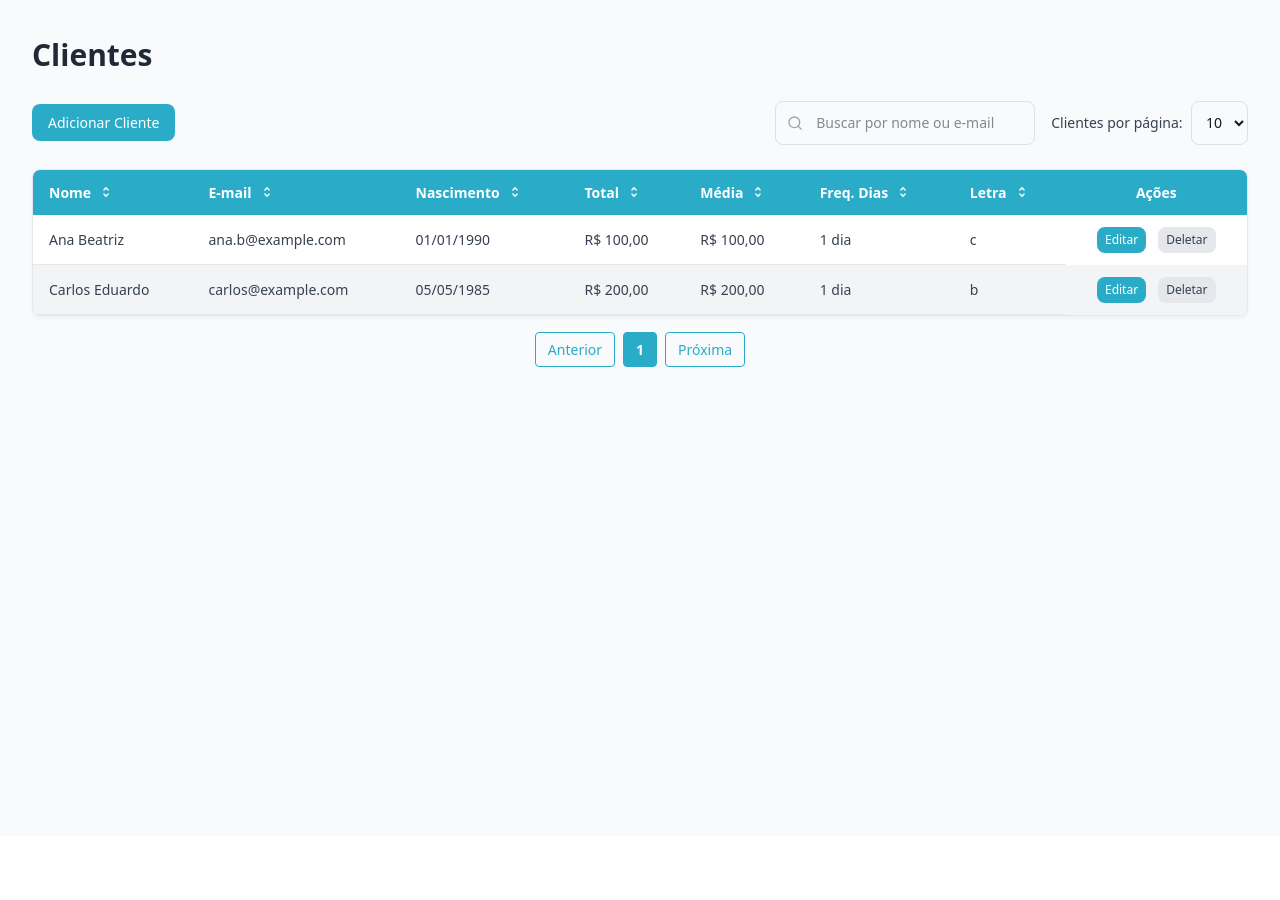
it: ClientsPage CRUD › Should edit a client correctly
Expected: the text "Ana Beatriz" is shown, [33,215,192,265]
Click the button "Editar" in the row of "Ana Beatriz". click: (1122, 240)
box: [1097,227,1146,253]
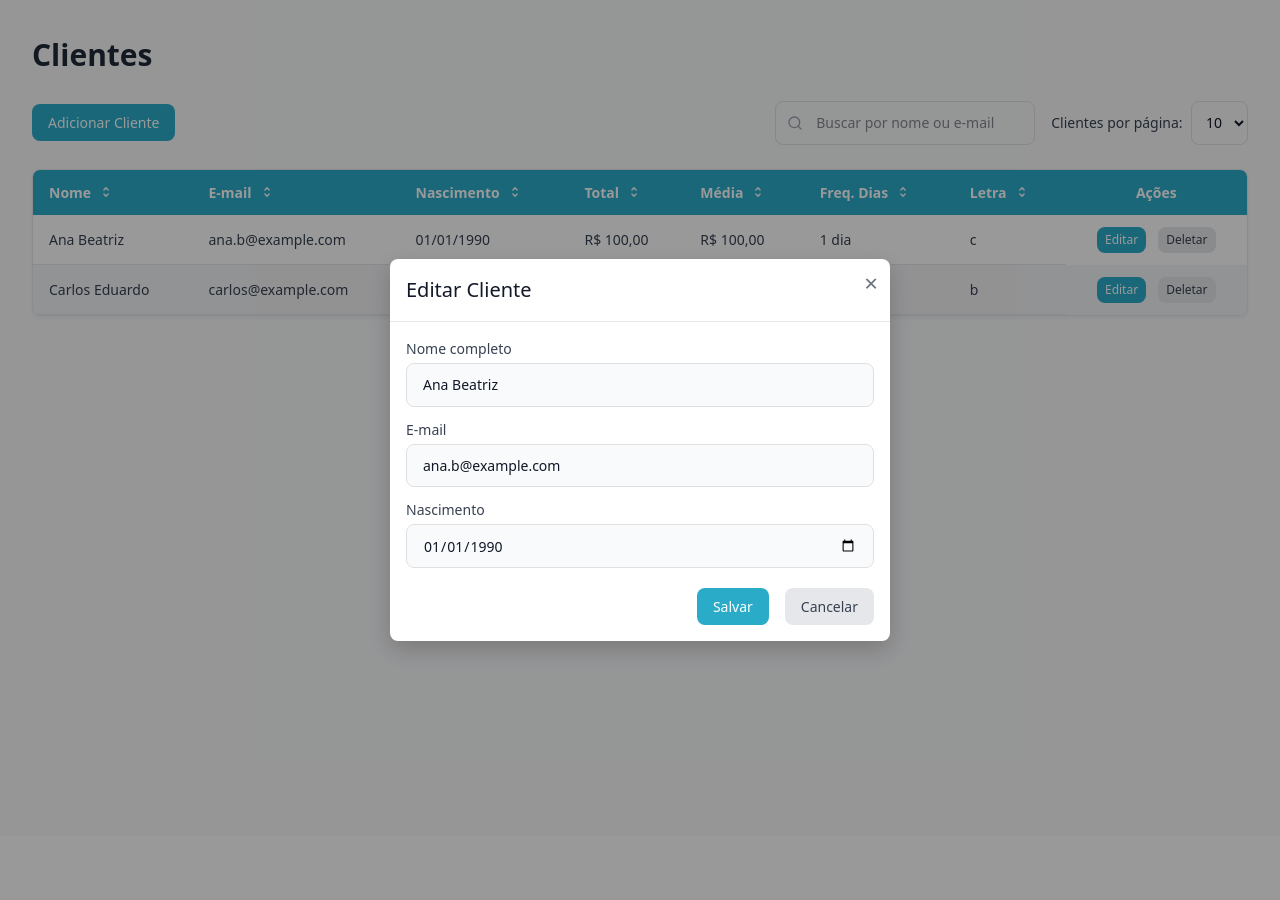
Replace the text in the field showing "Ana Beatriz" with "Ana B.". click: (640, 385)
box: [406,363,874,407]
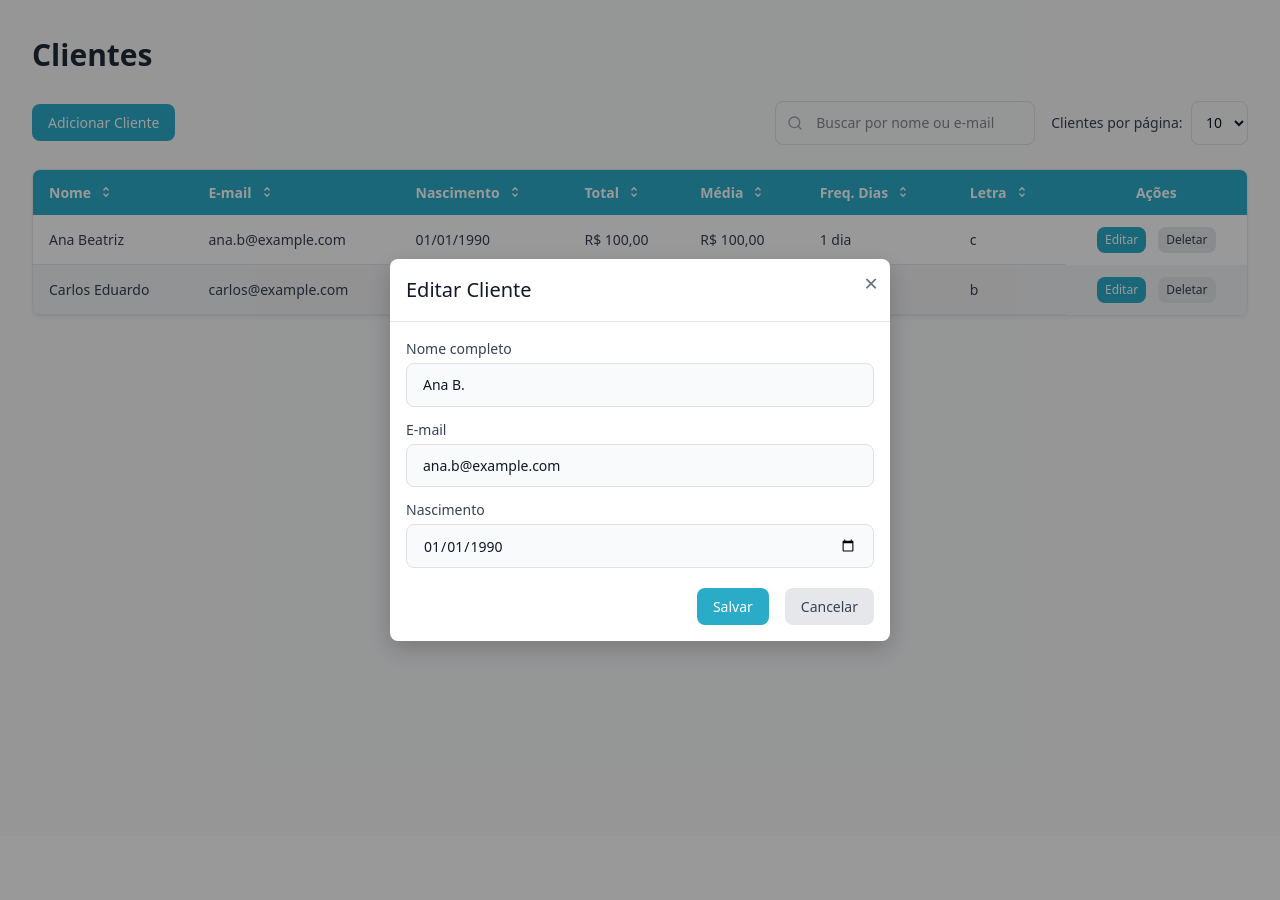
Replace the text in the field showing "ana.b@example.com" with "anab@example.com". click: (640, 466)
box: [406,444,874,487]
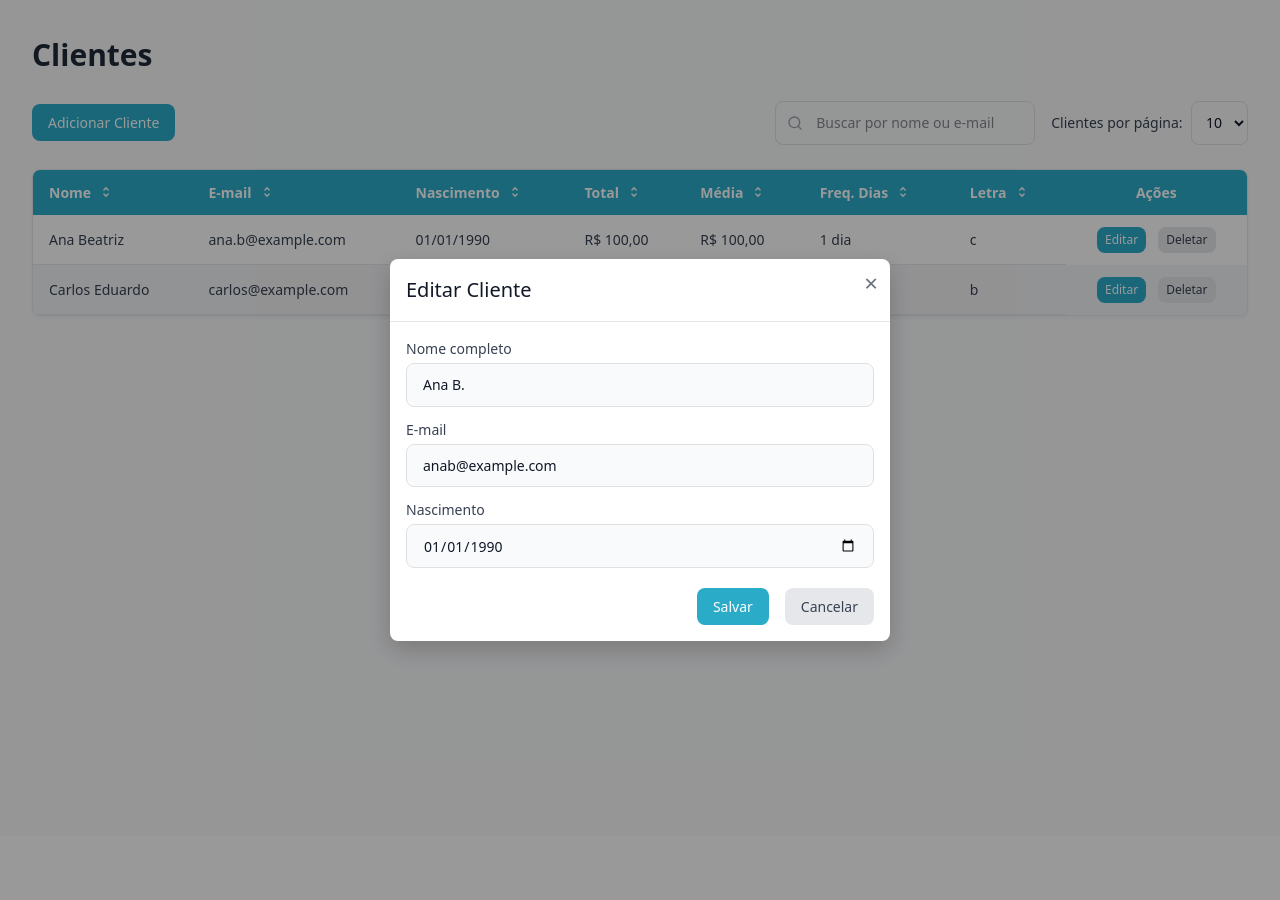
Click the button "Salvar". click: (733, 607)
box: [697,588,769,625]
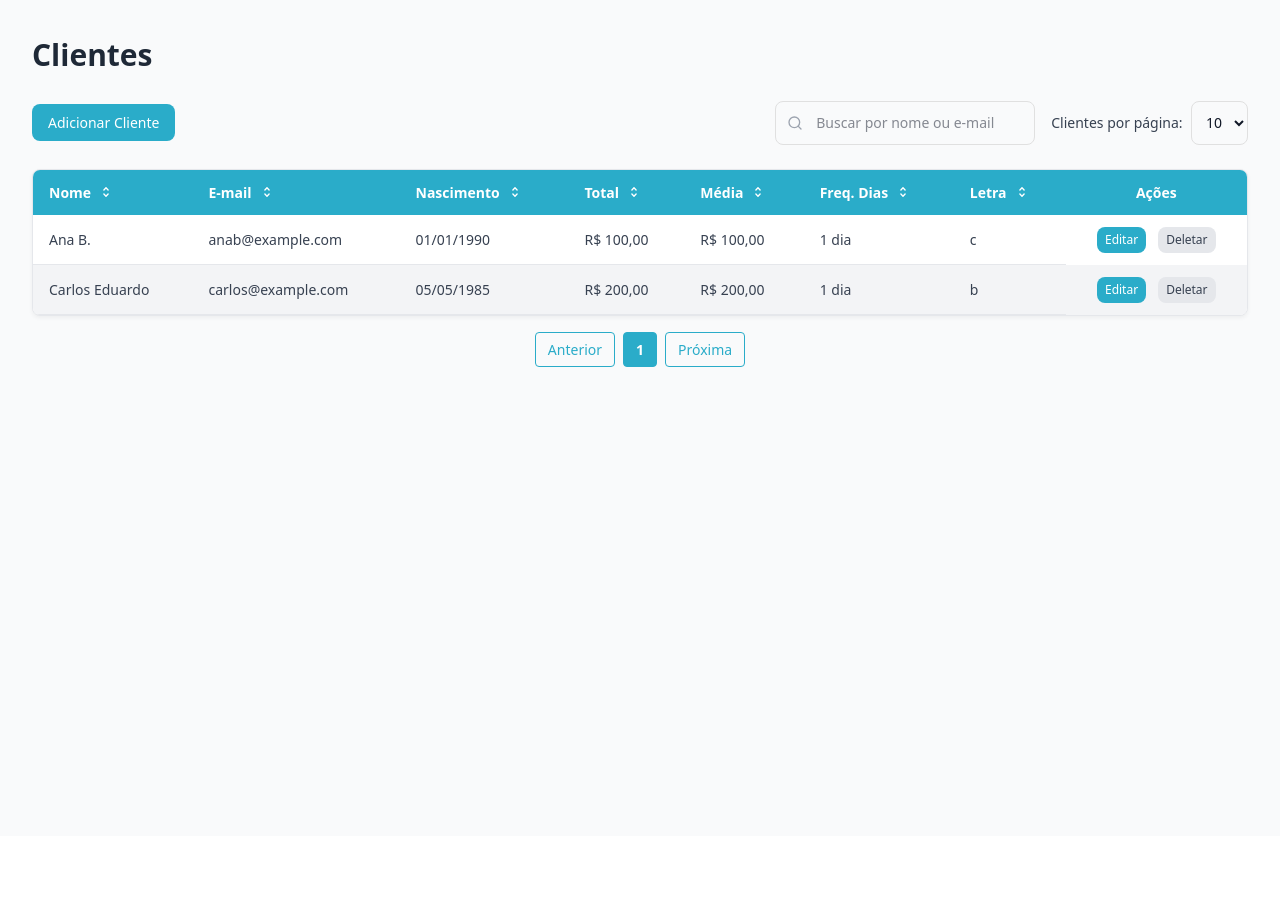
Expected: the text "Ana B." is shown, [33,215,192,265]
Expected: the text "anab@example.com" is shown, [192,215,400,265]
